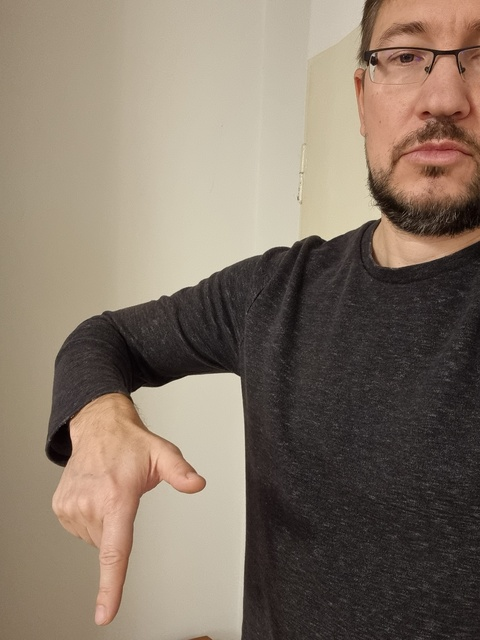GestDown: (50, 444, 206, 625)
